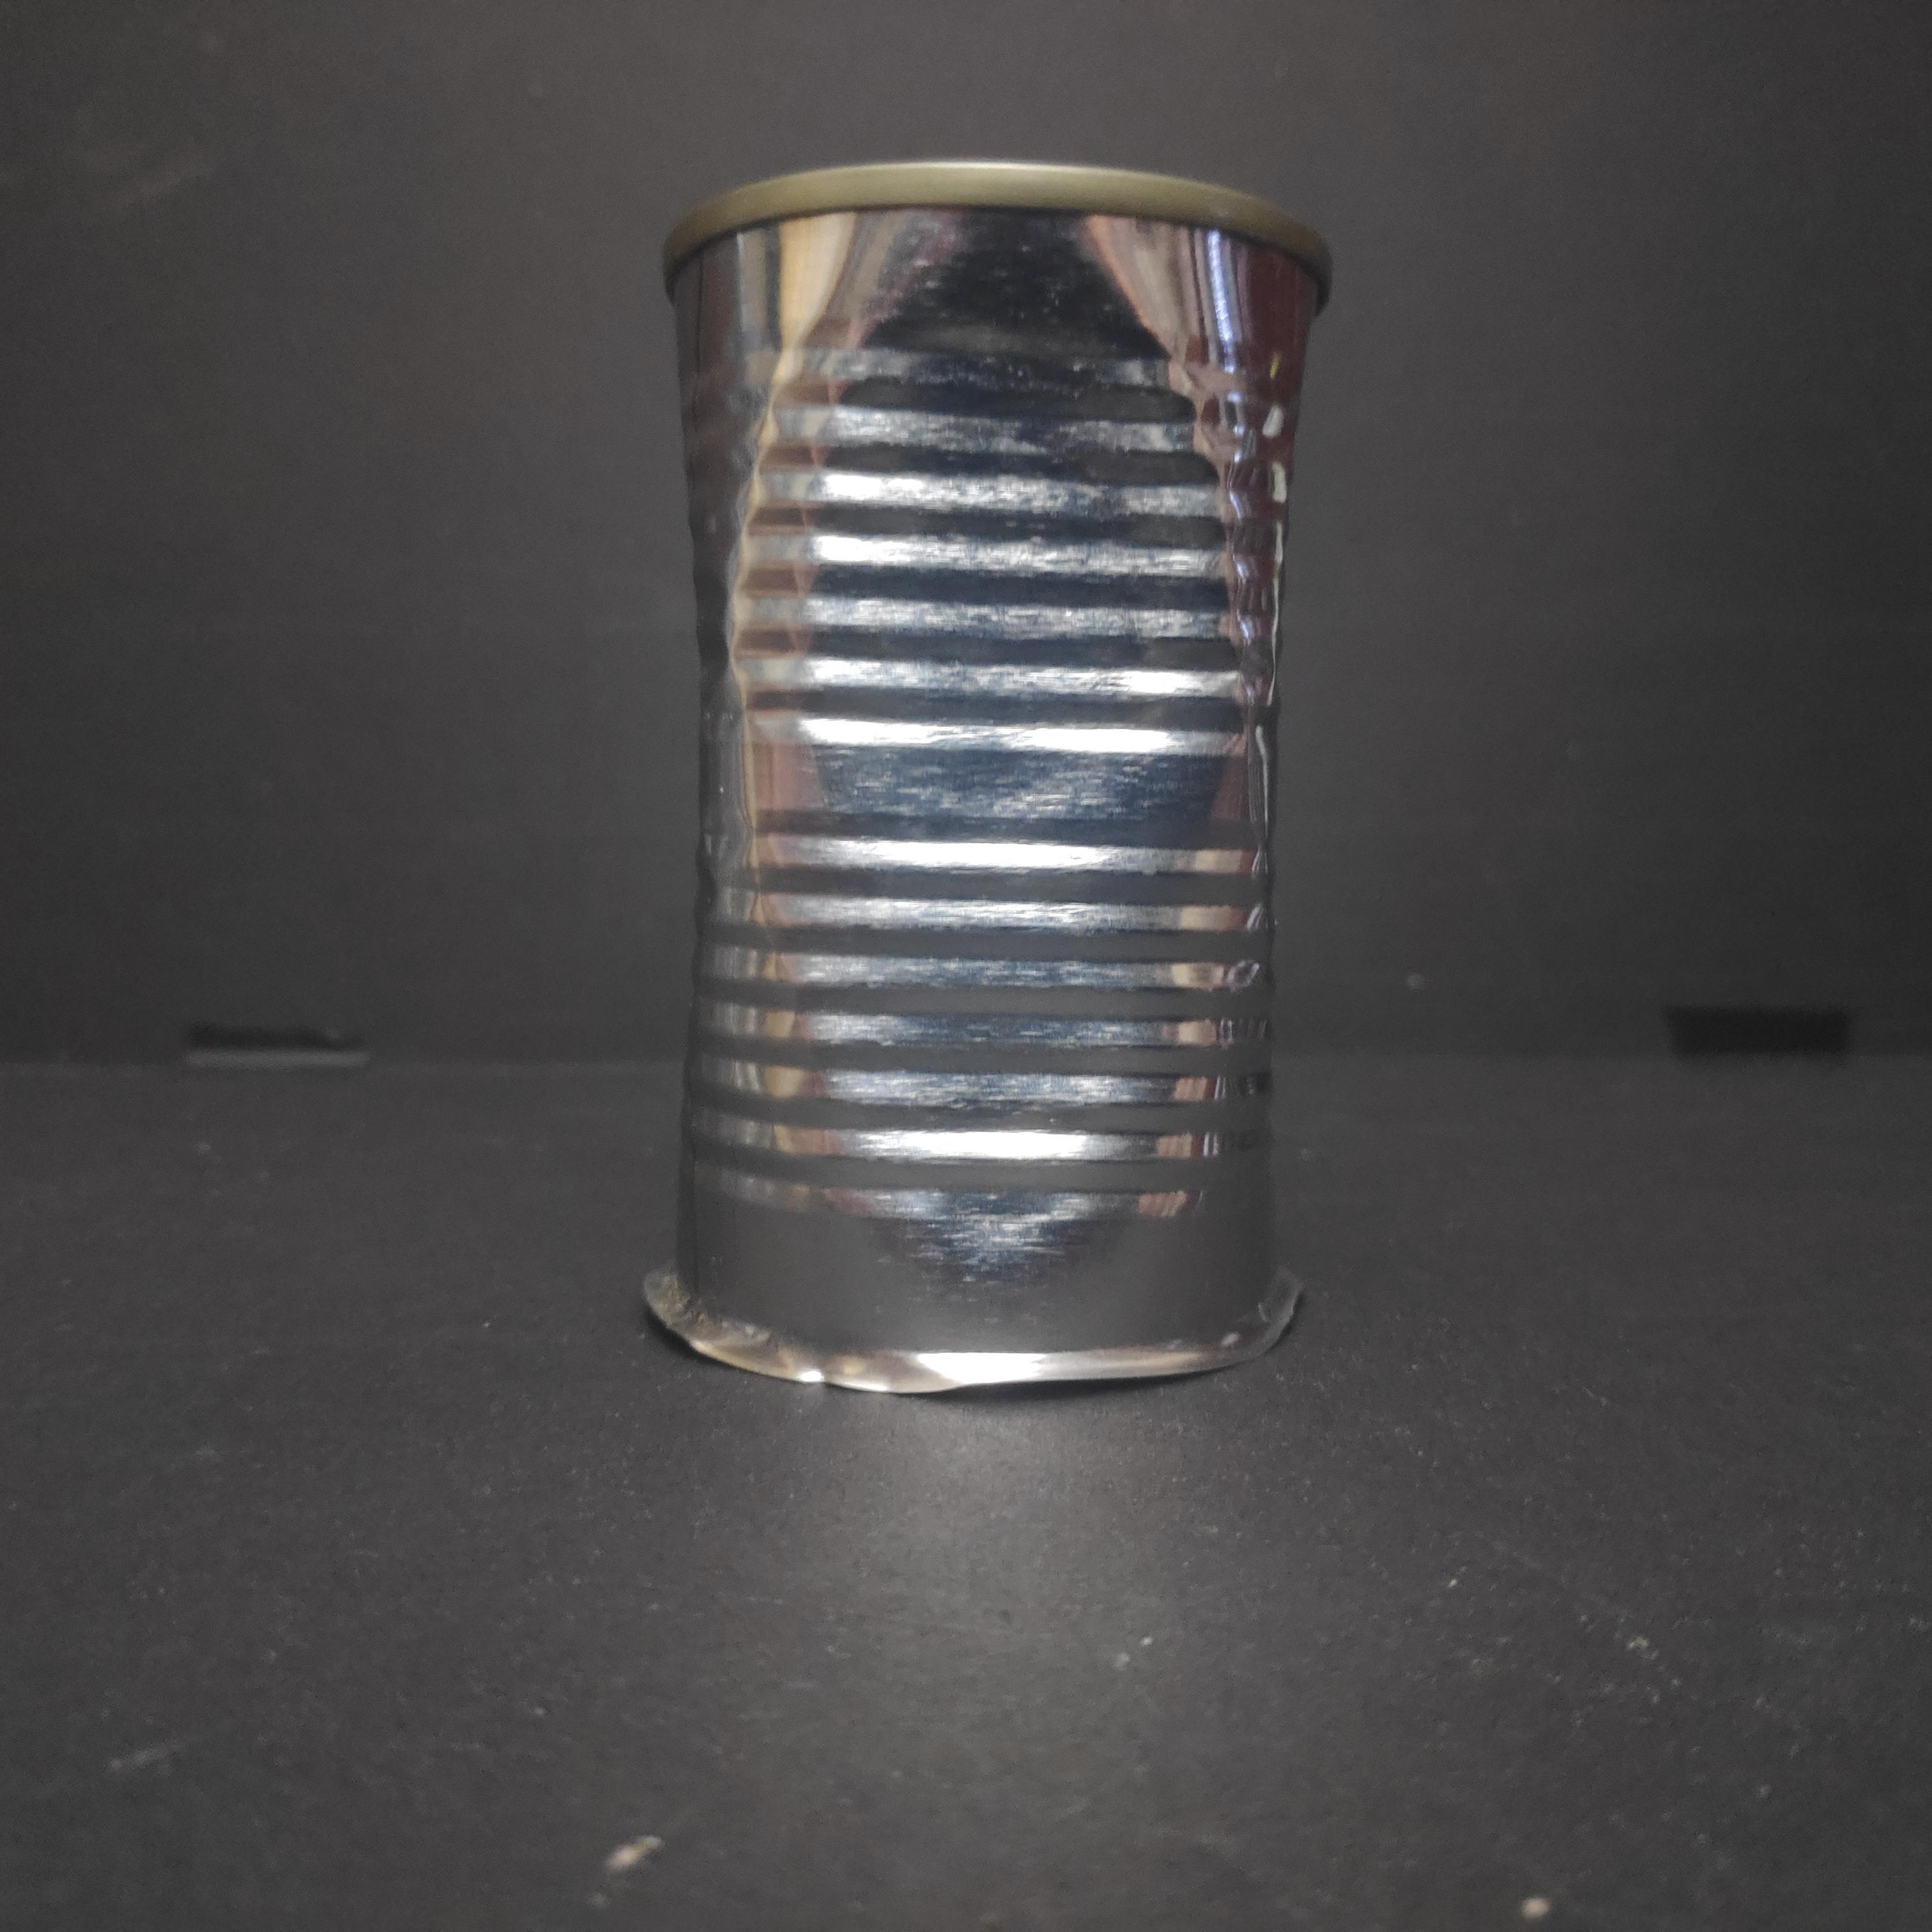Dented: (630, 143, 1348, 1421)
